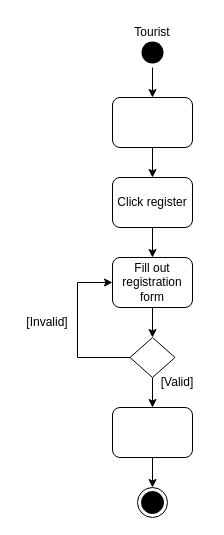
This 224x535 diagram has some shape labels left out. The centre of each missing label's shape, as x and y in pixels:
"Access login page" goes at point 152,432.
"Open system" goes at point 152,122.
